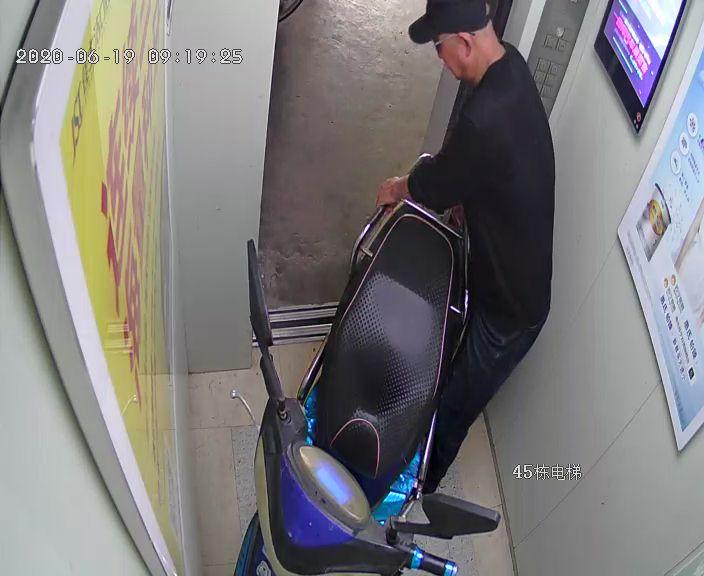Electric-bicycle: (227, 173, 504, 573)
